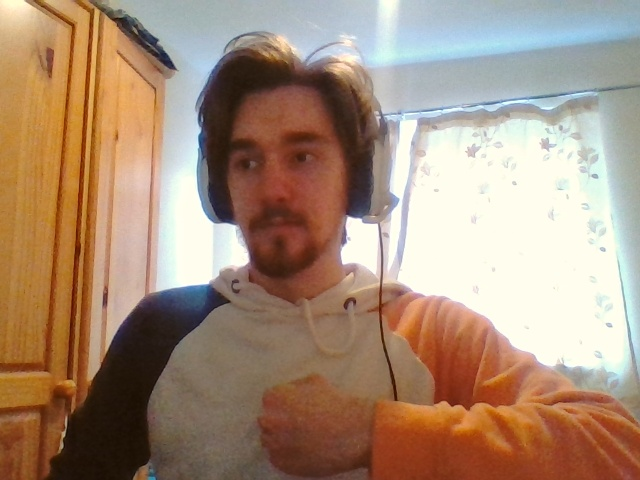morning: (260, 374, 344, 472)
